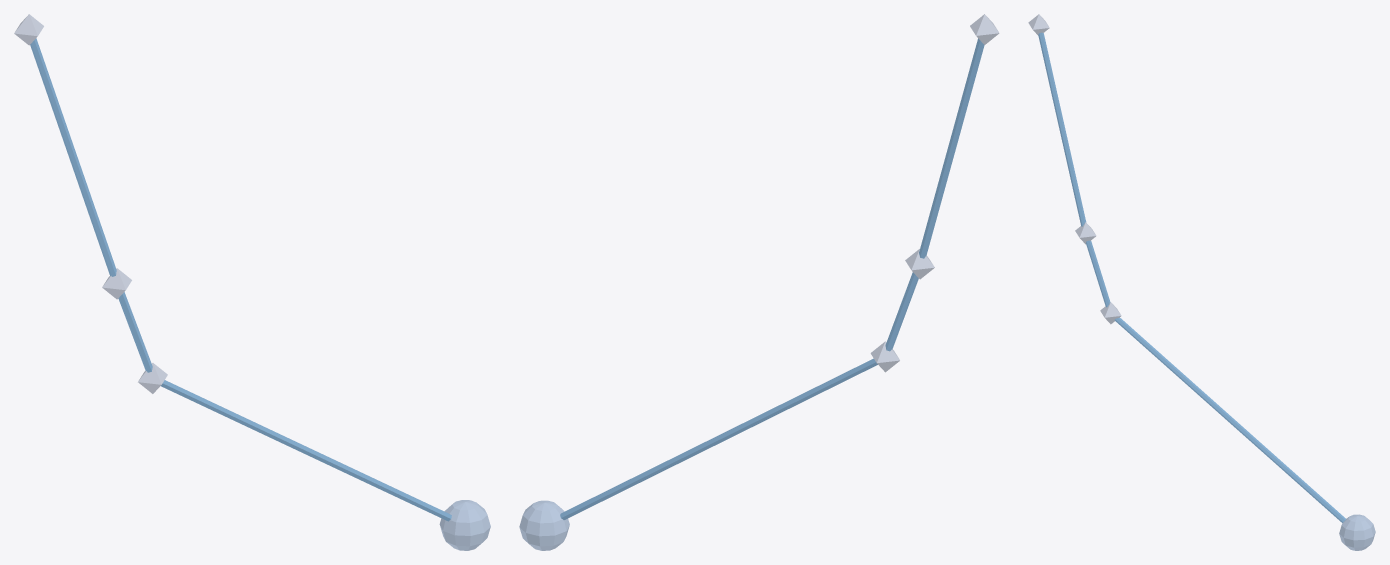
Rendered from constellation-pyx.glb.
The picture shows the model from 3 angles, left to right: view 1: azimuth 30°, elevation 25°; view 2: azimuth 150°, elevation 25°; view 3: azimuth 330°, elevation 25°; orthographic projection. The views are drawn at different scales.
Bounding box in the file's own units: 1.07 × 1.39 × 0.1459.
